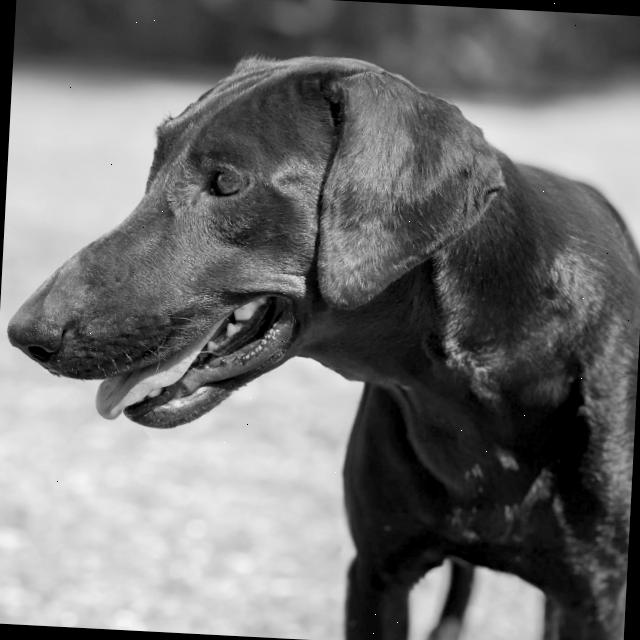labrador_retriever_dog: (0, 16, 538, 479)
